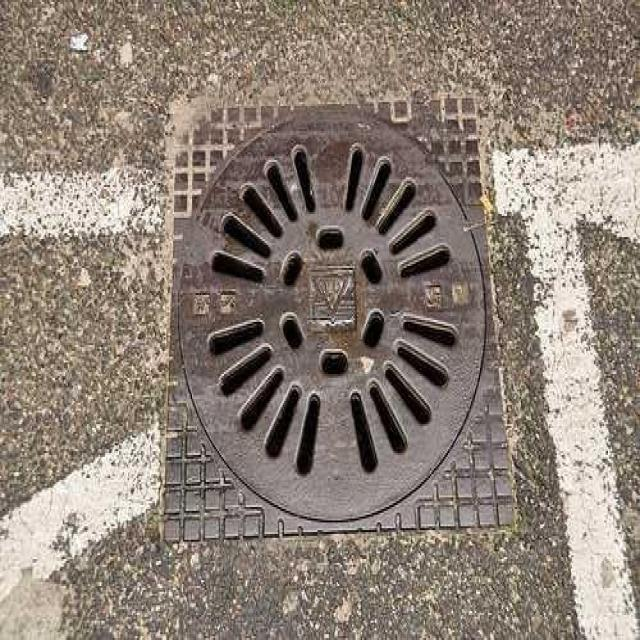manhole: (176, 109, 486, 532)
